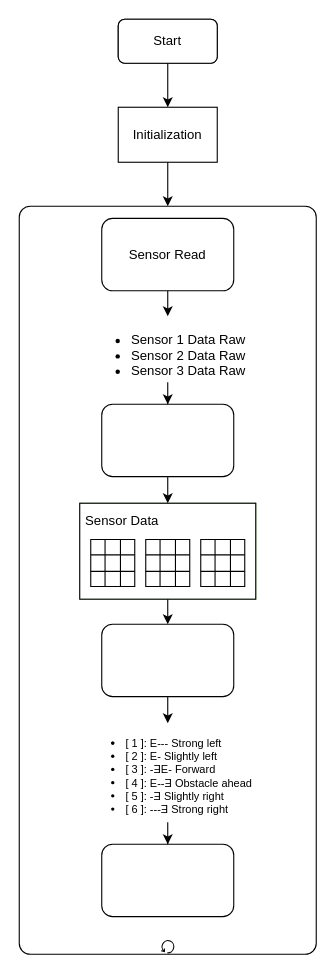
This 336x974 diagram has some shape labels left out. Each missing label, with the centre of its shape:
Data Filtration: the point at 167,440
Decision Logic: the point at 167,660
Display Msg.: the point at 167,880
